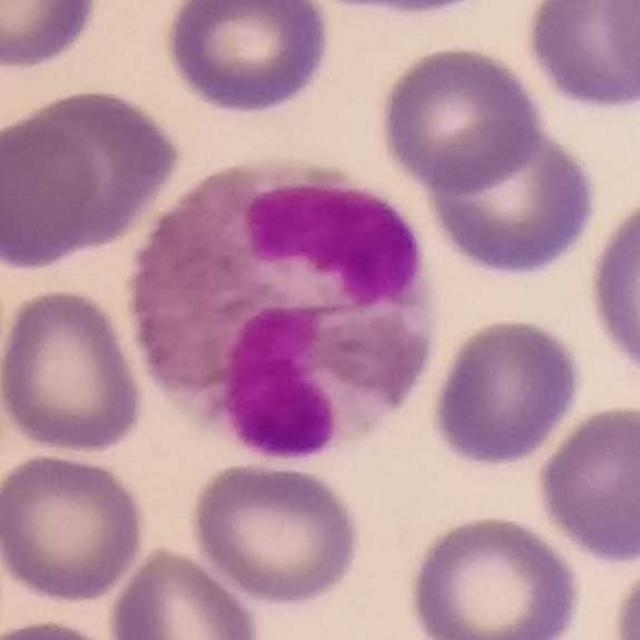eosino: (131, 157, 439, 458)
